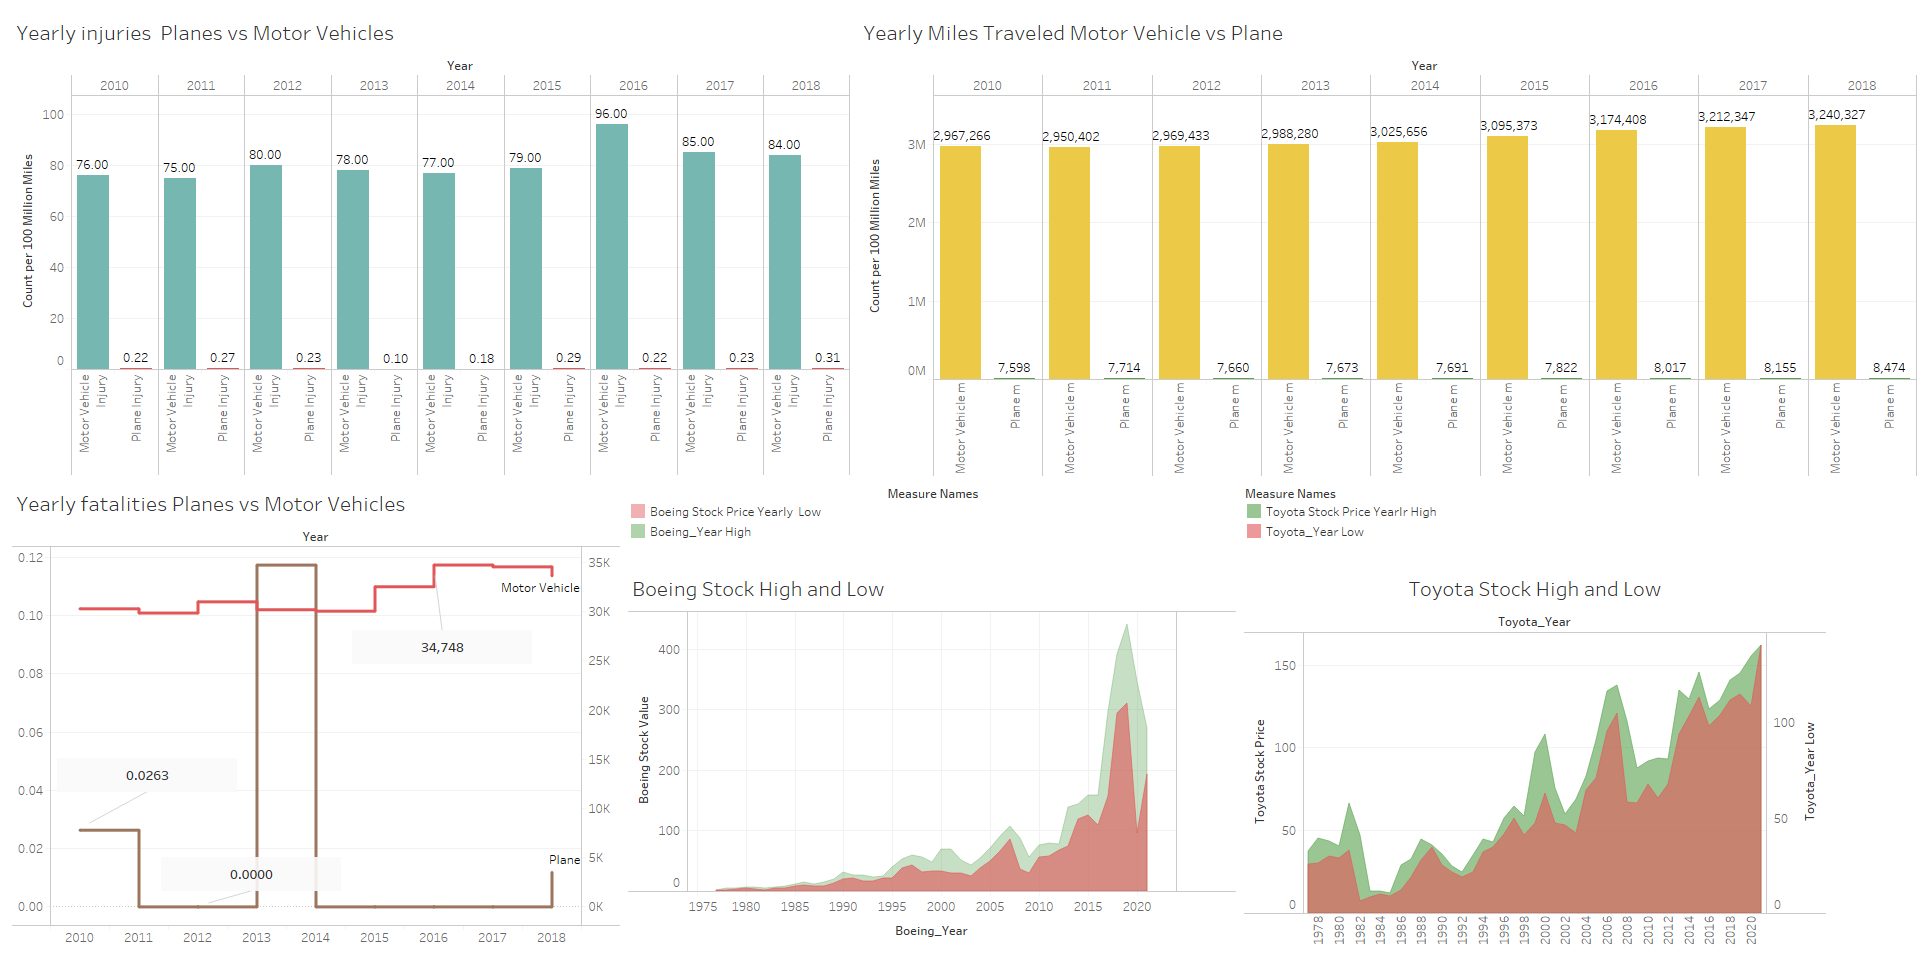

This screenshot's page, from the dashboard's own definition file:
{"tool":"tableau","page":{"name":"Dashboard 1","canvas":[1000,1000],"units":"permille","ordinal":0},"visuals":[{"type":"worksheet","box":[0,0,1000,1000]},{"type":"worksheet","param":"horz","box":[4.2,8.3,991.7,983.3]},{"type":"worksheet","box":[4.2,8.3,991.7,983.3]},{"type":"worksheet","title":"Yearly injuries  Planes vs Motor Vehicles","mark":"Automatic","cols":["AL_0"],"box":[4.2,8.3,438.9,491.7]},{"type":"worksheet","title":"Yearly Miles Traveled Motor Vehicle vs Plane","mark":"Automatic","cols":["AL_0"],"box":[443.1,8.3,552.8,491.7]},{"type":"worksheet","param":"horz","box":[4.2,500,991.7,491.7]},{"type":"worksheet","box":[4.2,500,991.7,491.7]},{"type":"worksheet","title":"Yearly fatalities Planes vs Motor Vehicles","mark":"Line","rows":["AL_Fatalities","MV_  Fatal"],"cols":["AL_0"],"box":[4.2,500,319.1,491.7]},{"type":"worksheet","title":"Boeing Stock High and Low","mark":"Area","rows":["Boeing_Year High","Boeing_Year Low"],"cols":["Boeing_Year"],"param":"[federated.1evenpl1d8qg7v1d8zbsh0xvafy5].[:Measure Names]","box":[323.2,500,319.1,88.1]},{"type":"worksheet","param":"vert","box":[642.3,500,353.5,88.1]},{"type":"worksheet","title":"Toyota Stock High and Low","mark":"Area","rows":["Toyota_Year High","Toyota_Year Low"],"cols":["Toyota_Year"],"param":"[federated.1evenpl1d8qg7v1d8zbsh0xvafy5].[:Measure Names]","box":[642.3,500,353.5,68.8]},{"type":"worksheet","title":"Boeing Stock High and Low","mark":"Area","rows":["Boeing_Year High","Boeing_Year Low"],"cols":["Boeing_Year"],"box":[323.2,588.1,319.1,403.6]},{"type":"worksheet","title":"Toyota Stock High and Low","mark":"Area","rows":["Toyota_Year High","Toyota_Year Low"],"cols":["Toyota_Year"],"box":[642.3,588.1,353.5,403.6]}]}

Visuals, with their boxes on the dashboard's canvas, which has no fixed pixel size, in thousandths of its width and height (x1, y1, x2, y2). These are canvas units, not pixel positions in the 1930x959 screenshot, which may show the page scaled, cropped or inside an application window:
worksheet: 0, 0, 1000, 1000
worksheet: 4, 8, 996, 992
worksheet: 4, 8, 996, 992
"Yearly injuries  Planes vs Motor Vehicles" worksheet: 4, 8, 443, 500
"Yearly Miles Traveled Motor Vehicle vs Plane" worksheet: 443, 8, 996, 500
worksheet: 4, 500, 996, 992
worksheet: 4, 500, 996, 992
"Yearly fatalities Planes vs Motor Vehicles" worksheet (Line marks): 4, 500, 323, 992
"Boeing Stock High and Low" worksheet (Area marks): 323, 500, 642, 588
worksheet: 642, 500, 996, 588
"Toyota Stock High and Low" worksheet (Area marks): 642, 500, 996, 569
"Boeing Stock High and Low" worksheet (Area marks): 323, 588, 642, 992
"Toyota Stock High and Low" worksheet (Area marks): 642, 588, 996, 992
